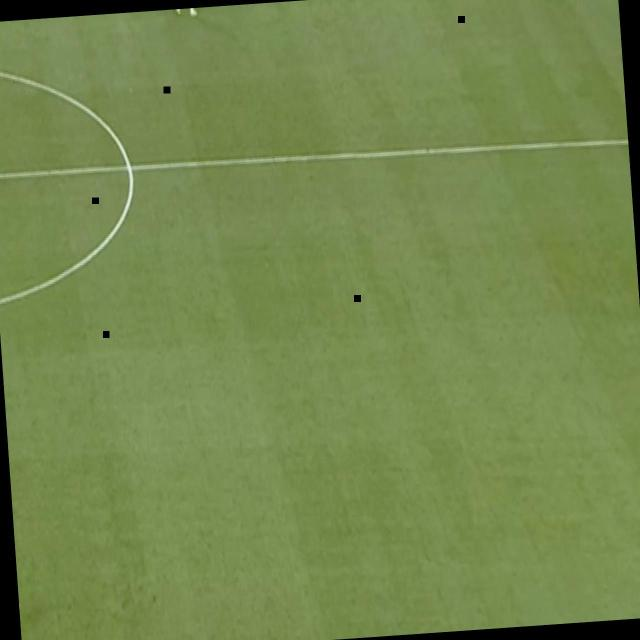player-white: (15, 546, 27, 640), (174, 8, 200, 22)
